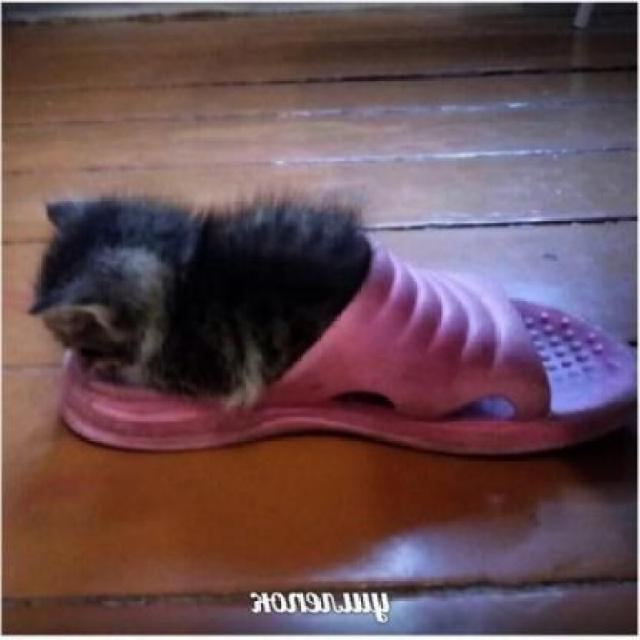cat: (12, 175, 410, 443)
